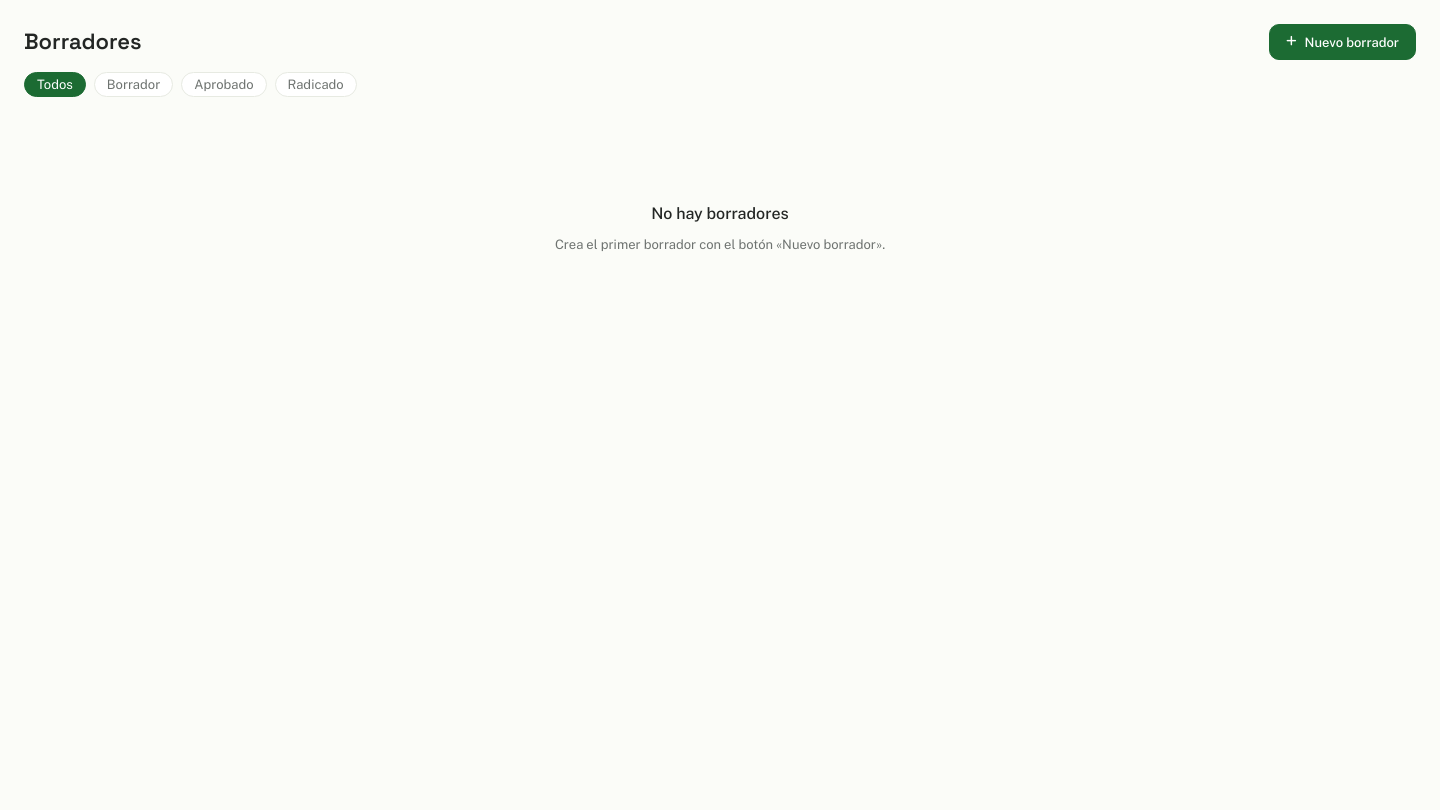
Test: vistas — el botón obedece a generationAvailable › borradores sin generación: no hay botón
Click the button named "Nuevo borrador".
click(1343, 42)  # box left=1269, top=24, right=1416, bottom=60
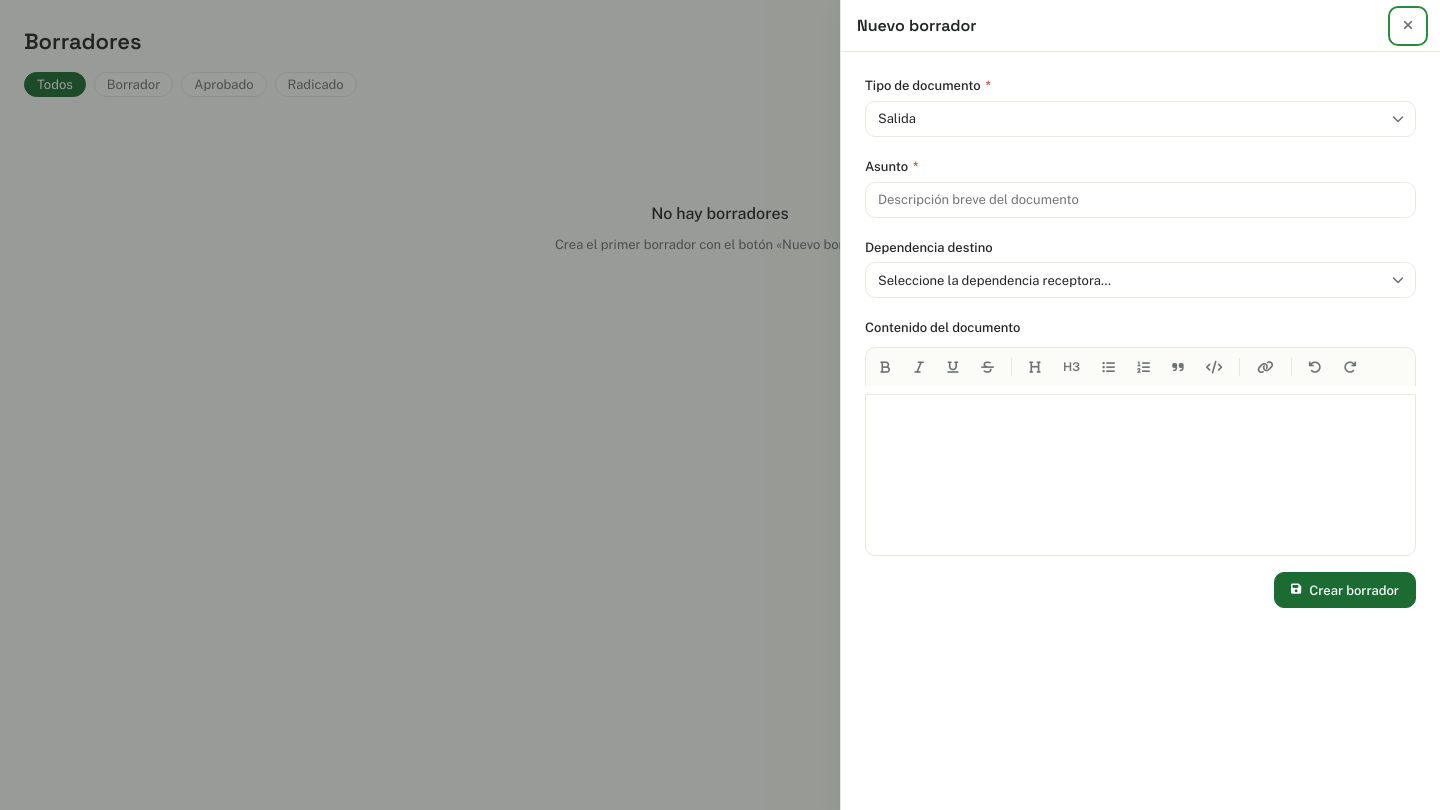
Expected: the dialog "Nuevo borrador" is shown, left=840, top=0, right=1439, bottom=809
